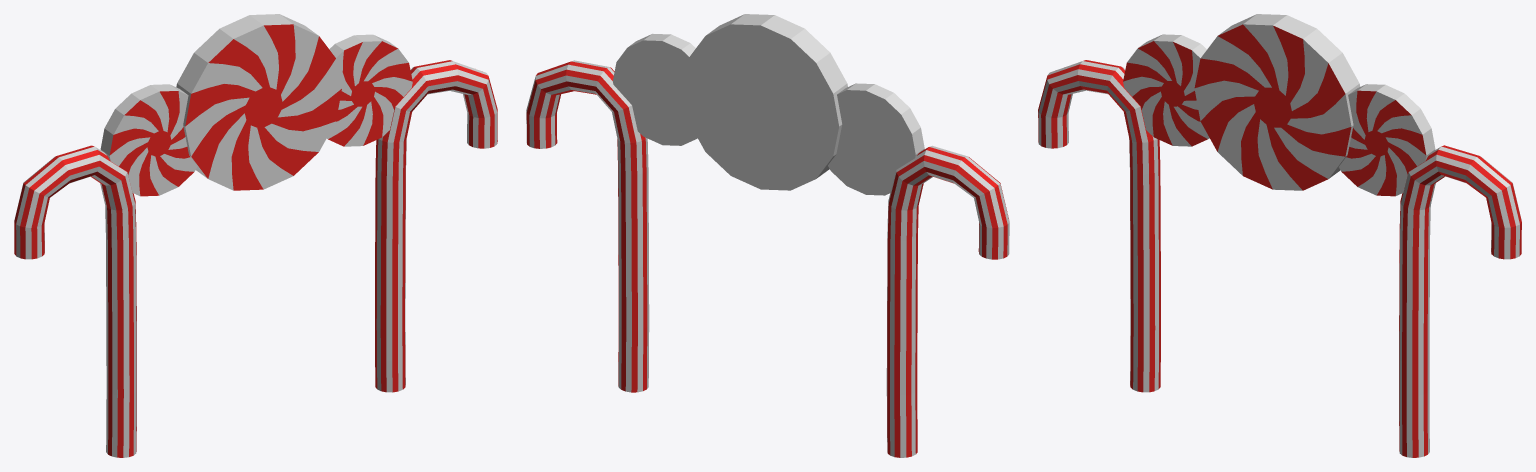
File: candy gate.glb
3 views of the same model, side by side, from view 1: azimuth 30°, elevation 25°; view 2: azimuth 150°, elevation 25°; view 3: azimuth 330°, elevation 25° (orthographic).
Visible parts, largest first — view 1: Cylinder.002; view 2: Cylinder.002; view 3: Cylinder.002.
Part boxes in pixels (<box>): Cylinder.002: <box>14,14,497,457</box>; Cylinder.002: <box>526,14,1009,457</box>; Cylinder.002: <box>1038,14,1521,457</box>.
Bounding box in the file's own units: 4.15 × 3.3 × 0.2311.
